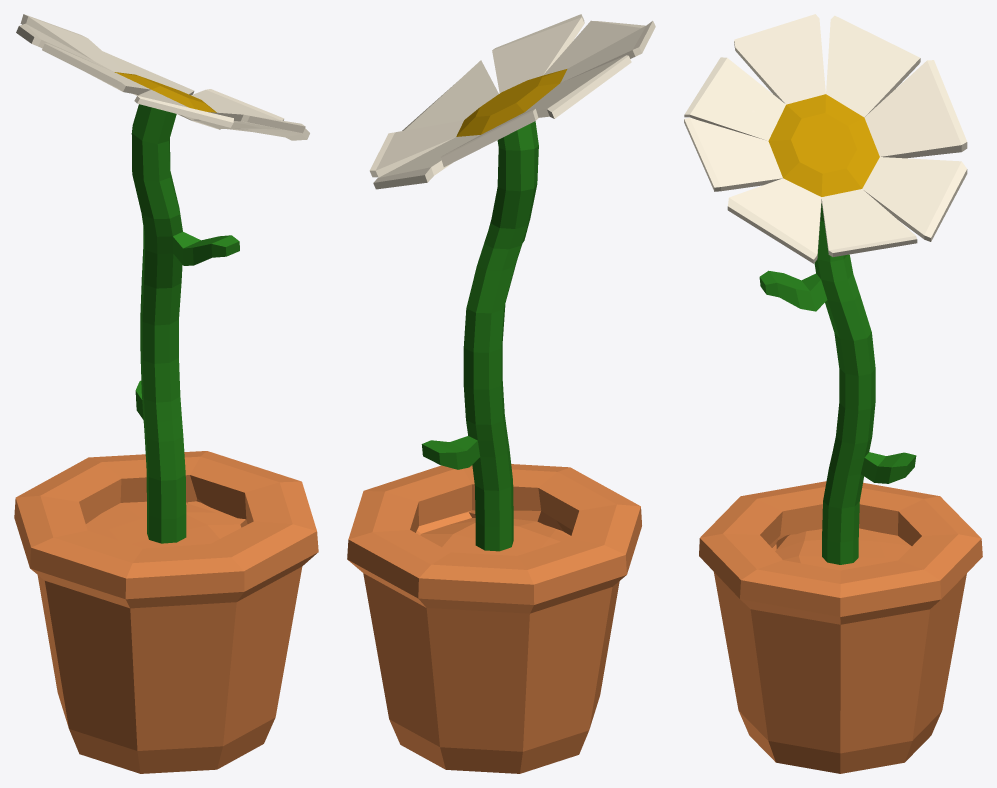
The model's file is flower-pot-white.fbx.
3 views of the same model, side by side, from view 1: azimuth 30°, elevation 25°; view 2: azimuth 150°, elevation 25°; view 3: azimuth 270°, elevation 25° (orthographic). The views are drawn at different scales.
Parts seen in each view (by area): view 1: Circle.002, Circle.001, Circle; view 2: Circle.002, Circle, Circle.001; view 3: Circle.002, Circle, Circle.001.
Part boxes in pixels (left/top/right/bottom): Circle.002: left=14, top=451, right=318, bottom=773; Circle.001: left=131, top=104, right=239, bottom=543; Circle: left=16, top=14, right=309, bottom=140; Circle.002: left=347, top=464, right=641, bottom=773; Circle: left=369, top=14, right=655, bottom=189; Circle.001: left=421, top=121, right=538, bottom=551; Circle.002: left=699, top=481, right=982, bottom=773; Circle: left=684, top=14, right=967, bottom=263; Circle.001: left=759, top=203, right=916, bottom=564.
Size of the model in its own units: 156 by 398 by 163.
